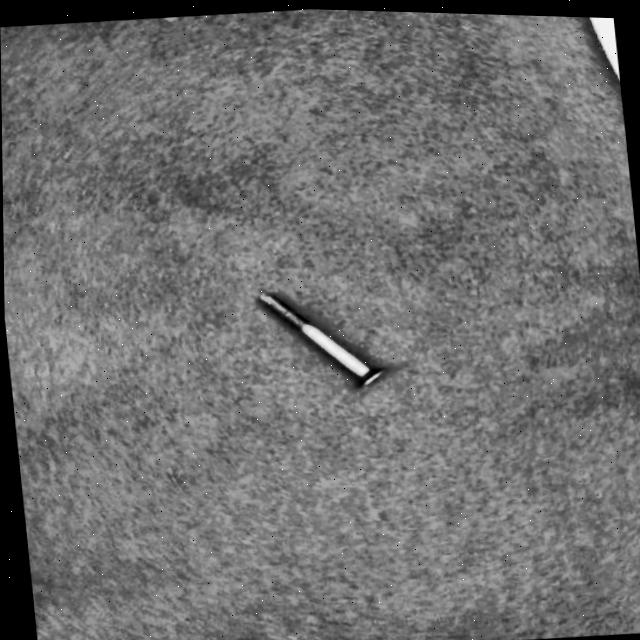Flat head socket screw: (251, 278, 389, 396)
